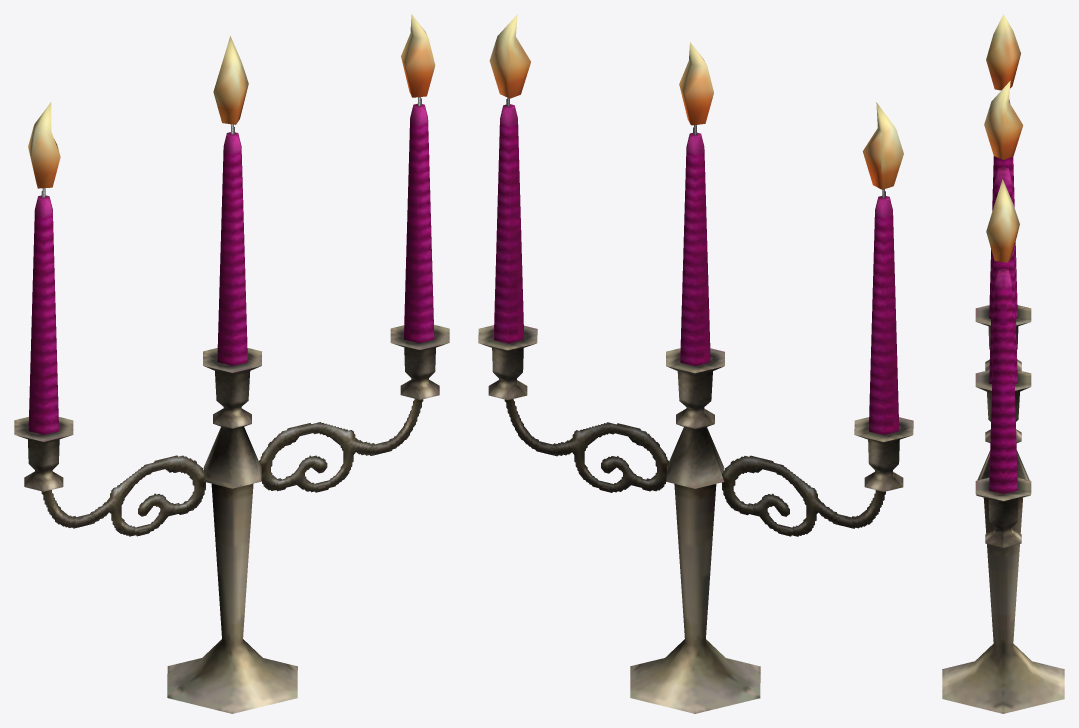
Rendered from furni_0200304_01.FBX.
The picture shows the model from 3 angles, left to right: view 1: azimuth 30°, elevation 25°; view 2: azimuth 150°, elevation 25°; view 3: azimuth 270°, elevation 25°; orthographic projection. The views are drawn at different scales.
Visible parts, largest first — view 1: furni_0200304_01; view 2: furni_0200304_01; view 3: furni_0200304_01.
Part boxes in pixels (x1,y1,x2,y2): furni_0200304_01: (14,14,449,713); furni_0200304_01: (478,14,913,713); furni_0200304_01: (942,14,1064,713).
Bounding box in the file's own units: 47.19 × 66.65 × 12.26.
